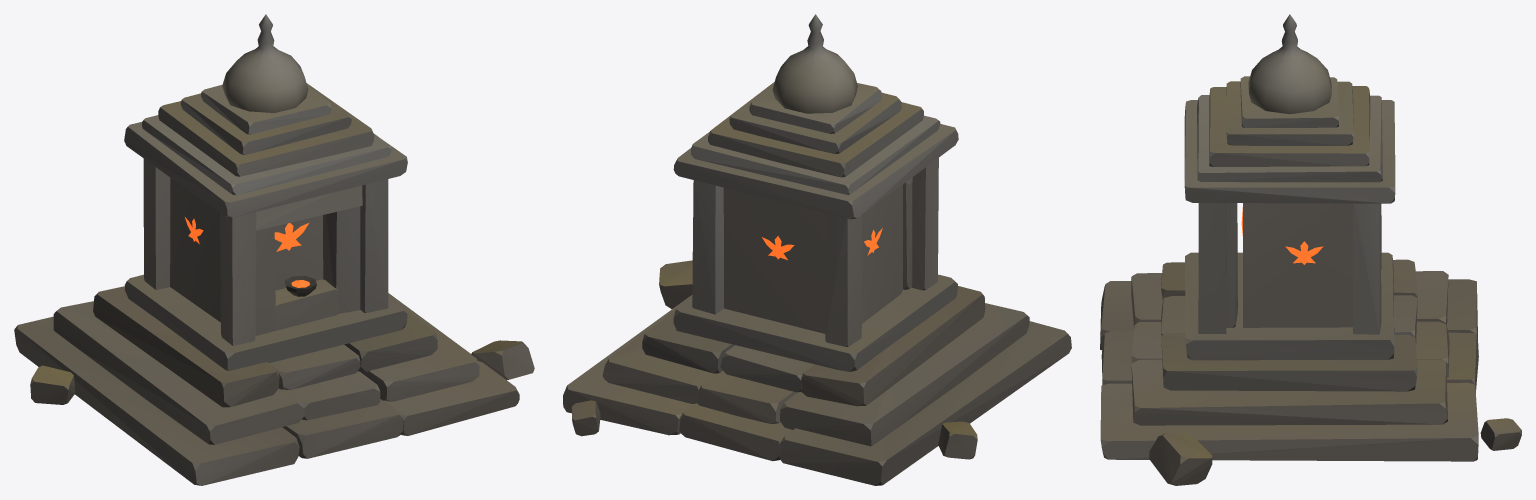
File: shrine.glb
The picture shows the model from 3 angles, left to right: view 1: azimuth 30°, elevation 25°; view 2: azimuth 150°, elevation 25°; view 3: azimuth 270°, elevation 25°; orthographic projection.
Visible parts, largest first — view 1: Shrine; view 2: Shrine; view 3: Shrine.
Boxes of the visible parts, box(x1,y1,x2,y2) form: Shrine: box(14, 14, 534, 485); Shrine: box(563, 14, 1071, 485); Shrine: box(1100, 14, 1521, 485).
Bounding box in the file's own units: 3.94 × 3.43 × 3.49.
